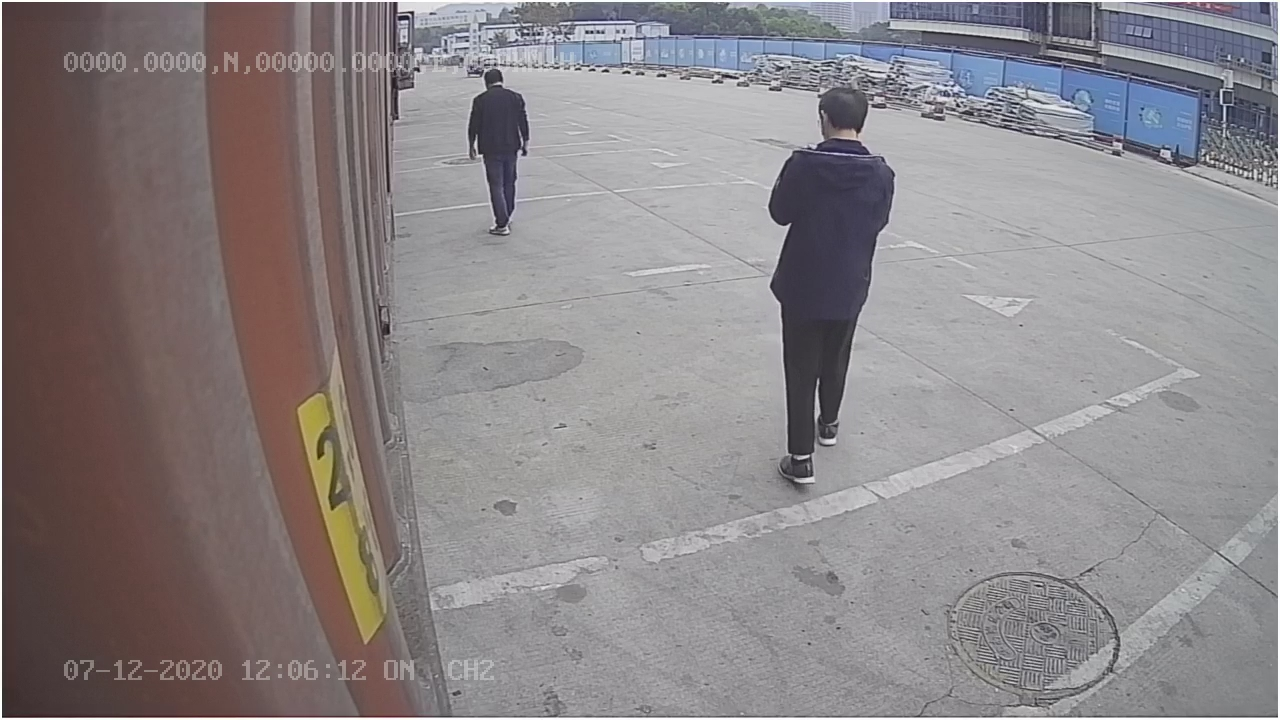person: (768, 84, 905, 486)
